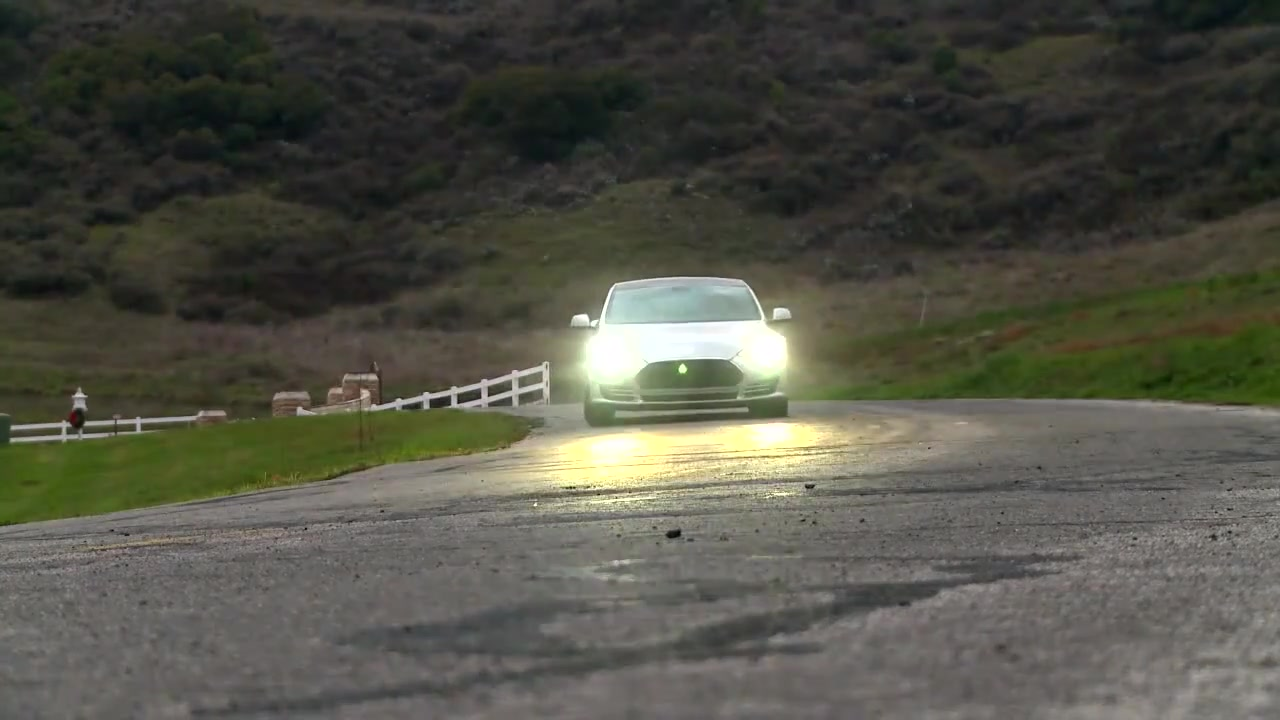car: (565, 280, 803, 425)
